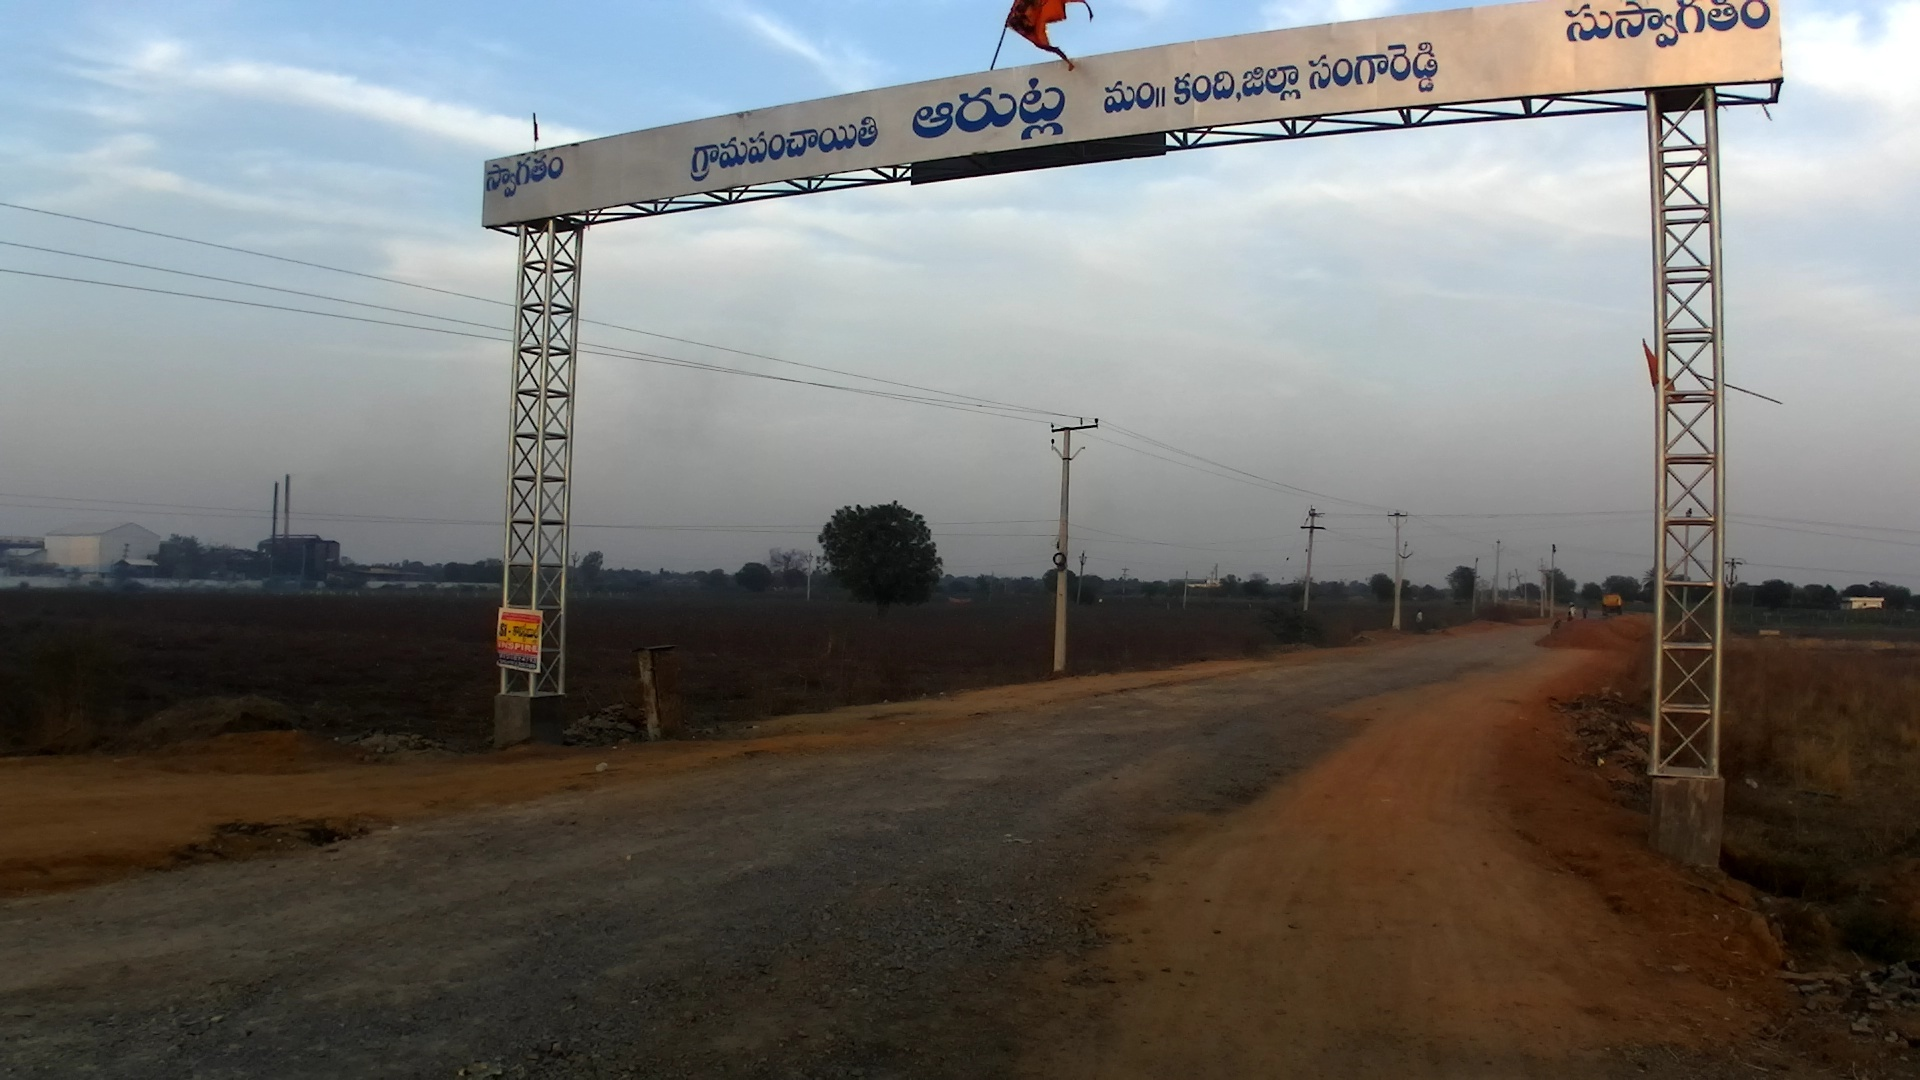person: (1566, 599, 1577, 624), (1414, 611, 1424, 633), (1581, 604, 1592, 624)
truck: (1596, 593, 1624, 618)
